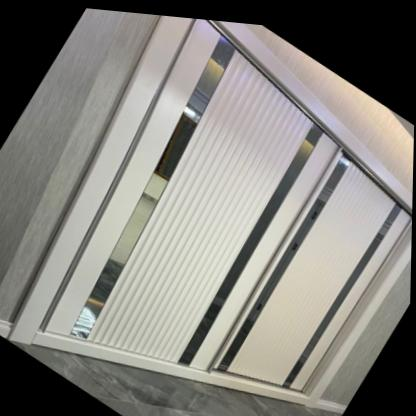Ceramic floor: (12, 341, 347, 416)
Closet: (11, 12, 413, 402)
